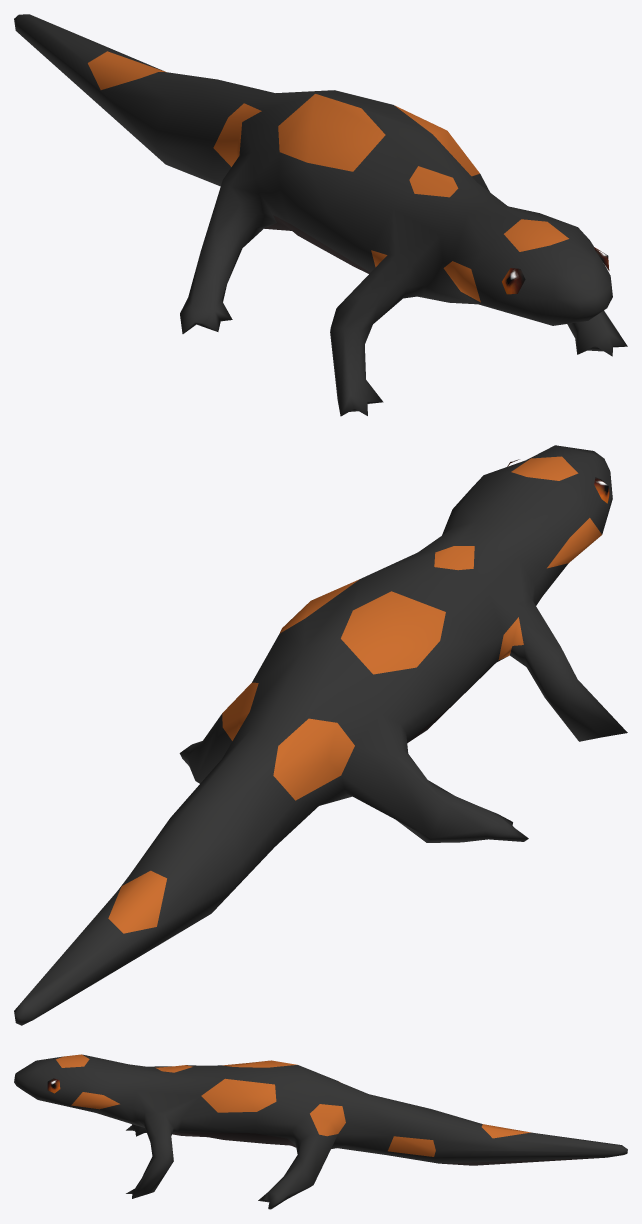
3 views of the same model, one above another, from view 1: azimuth 30°, elevation 25°; view 2: azimuth 150°, elevation 25°; view 3: azimuth 270°, elevation 25° (orthographic). The views are drawn at different scales.
Parts seen in each view (by area): view 1: Salamander; view 2: Salamander; view 3: Salamander.
Part boxes in pixels (x1,y1,x2,y2): Salamander: (14,14,627,416); Salamander: (14,445,627,1025); Salamander: (14,1054,627,1209).
Size of what is drawn, in the model's own units: 0.5275 by 0.2894 by 1.53.
Materials: 1 (1 with a texture image).
